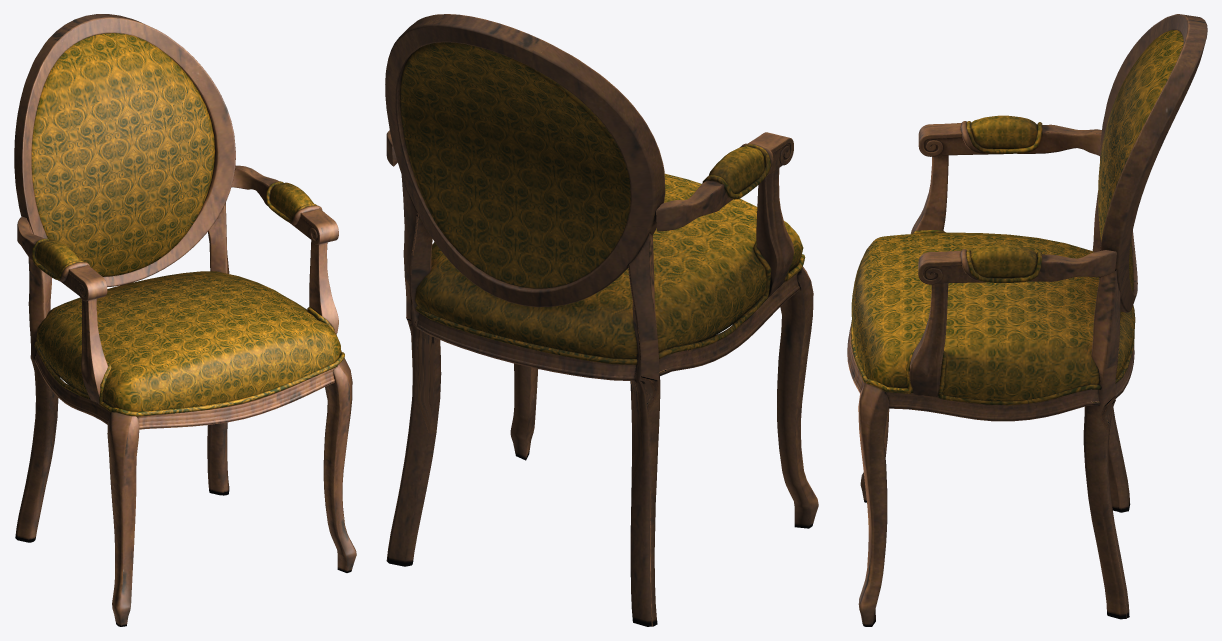
Rendered from chair1.obj.
3 renders of one model, left to right at view 1: azimuth 30°, elevation 25°; view 2: azimuth 150°, elevation 25°; view 3: azimuth 270°, elevation 25°, orthographic. The views are drawn at different scales.
Parts seen in each view (by area): view 1: chair; view 2: chair; view 3: chair.
Part boxes in pixels (x1,y1,x2,y2): chair: (14,14,356,626); chair: (385,14,818,626); chair: (847,14,1207,626).
Bounding box in the file's own units: 0.4811 × 0.8362 × 0.5085.
Materials: 1 (1 with a texture image).
